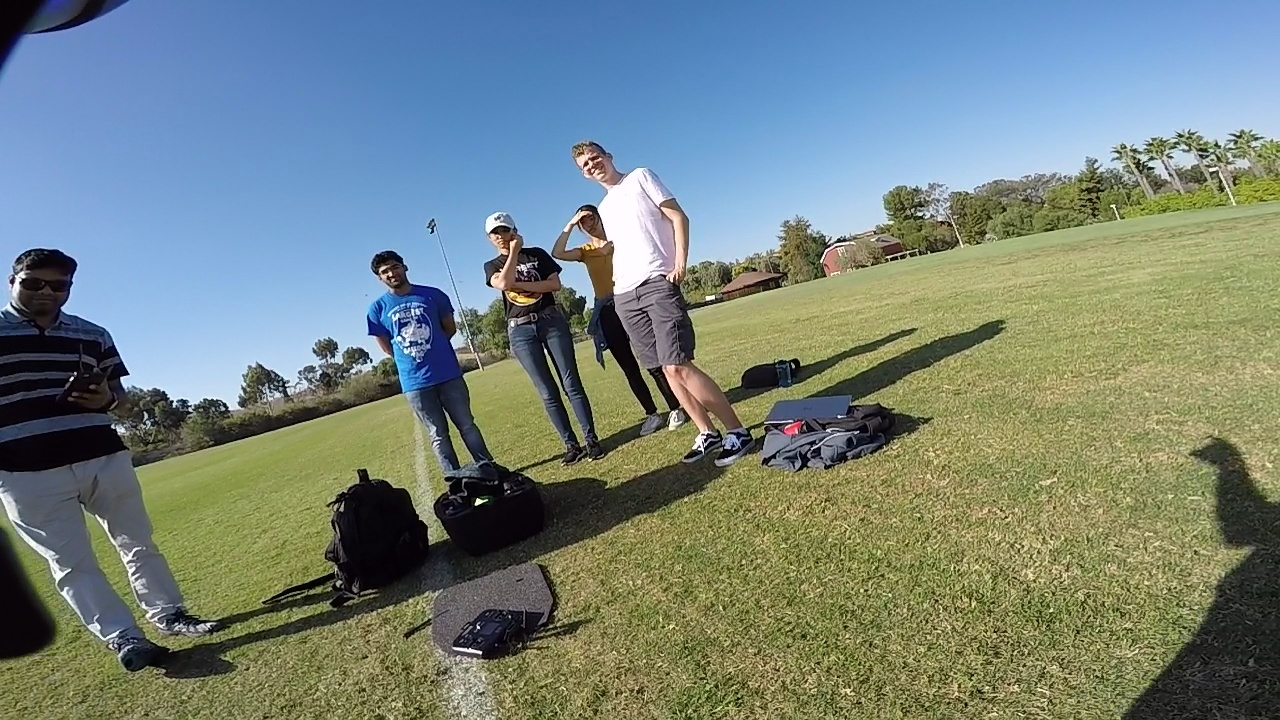person: (1, 240, 220, 672), (556, 125, 755, 459), (353, 235, 512, 502), (473, 207, 600, 462), (548, 191, 614, 371)
